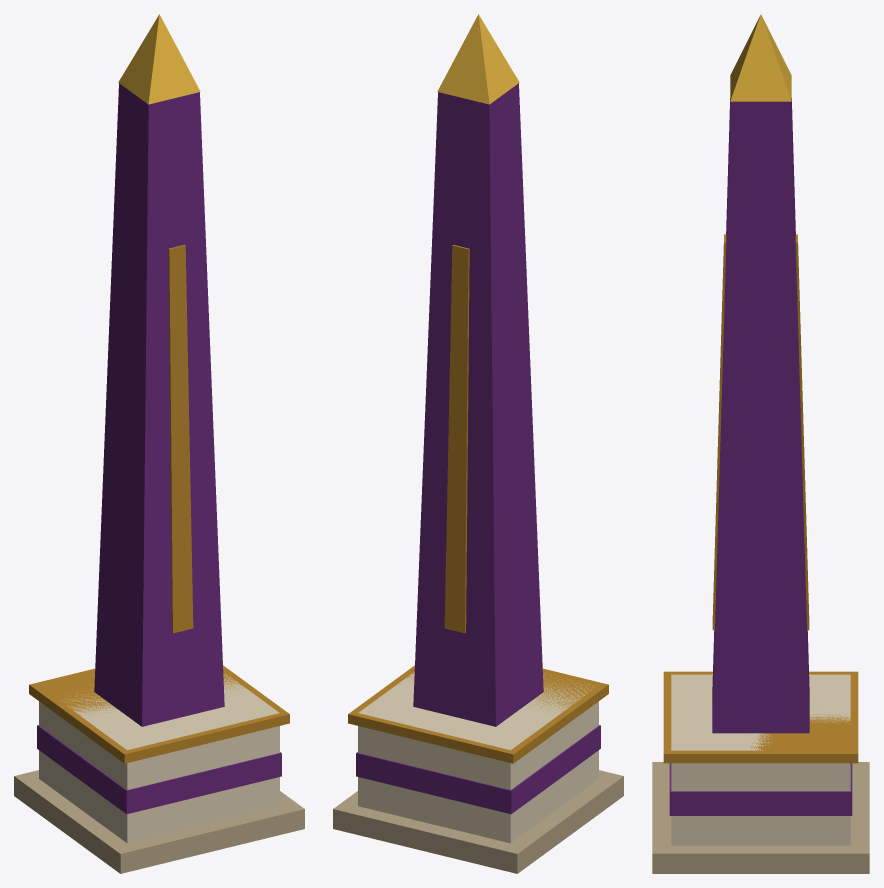
The model's file is SM_Obelisk.fbx.
The picture shows the model from 3 angles, left to right: view 1: azimuth 30°, elevation 25°; view 2: azimuth 150°, elevation 25°; view 3: azimuth 270°, elevation 25°; orthographic projection.
Visible parts, largest first — view 1: SM_Obelisk; view 2: SM_Obelisk; view 3: SM_Obelisk.
Boxes of the visible parts, bbox=[...] form: SM_Obelisk: bbox=[14, 14, 304, 873]; SM_Obelisk: bbox=[333, 14, 623, 873]; SM_Obelisk: bbox=[652, 14, 869, 873].
Size of the model in its own units: 2.9 by 2.9 by 12.
